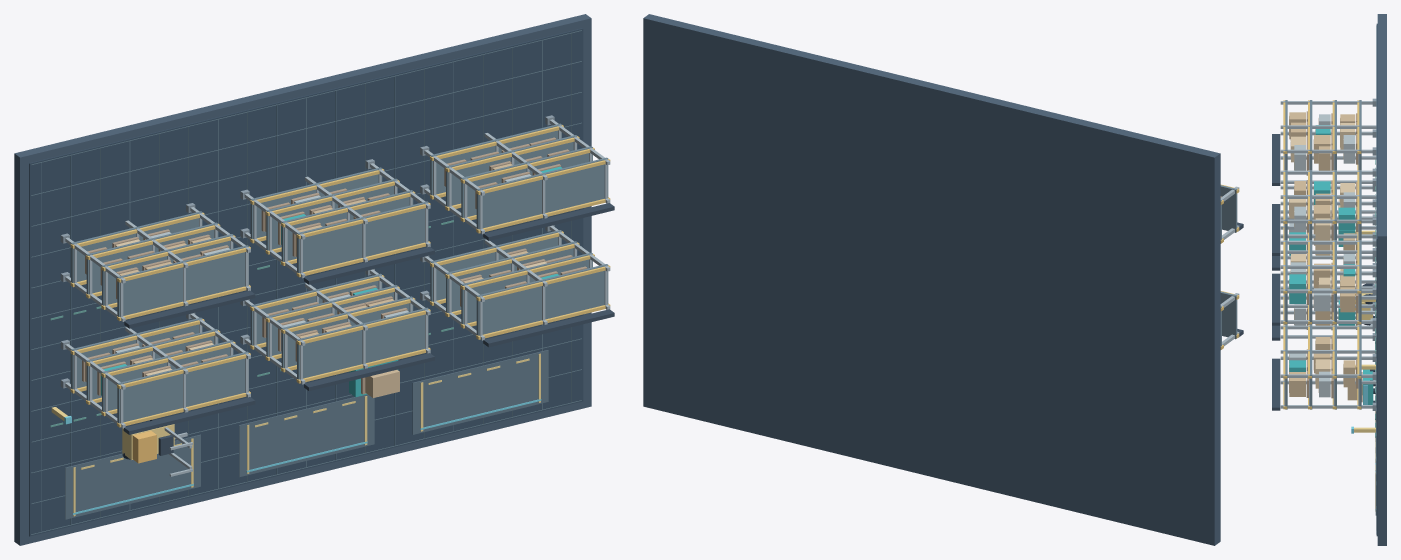
The model's file is masan_wms_warehouse_v2.glb.
The picture shows the model from 3 angles, left to right: view 1: azimuth 30°, elevation 25°; view 2: azimuth 150°, elevation 25°; view 3: azimuth 270°, elevation 25°; orthographic projection. The views are drawn at different scales.
Visible parts, largest first — view 1: floor_upper_2, warehouse_floor_1, dock_area_51, dock_area_43, dock_area_35, R03_shelf_262, R06_shelf_466, R04_shelf_328, R01_shelf_127, R02_shelf_196, R05_shelf_397, R06_shelf_448 (+29 smaller); view 2: warehouse_floor_1; view 3: warehouse_floor_1, floor_upper_2, R03_header_plate_268, R06_header_plate_472, R01_header_plate_133, R02_header_plate_202, R03_carton_298, R03_steel_leg_239, R03_steel_leg_243, R02_steel_leg_173, R01_steel_leg_108, R02_steel_leg_177 (+71 smaller).
Boxes of the visible parts, box(x1,y1,x2,y2) form: floor_upper_2: box(29, 28, 583, 536); warehouse_floor_1: box(14, 14, 591, 545); dock_area_51: box(412, 350, 548, 434); dock_area_43: box(239, 394, 374, 477); dock_area_35: box(65, 434, 200, 519); R03_shelf_262: box(476, 157, 608, 229); R06_shelf_466: box(476, 264, 608, 335); R04_shelf_328: box(117, 351, 248, 423); R01_shelf_127: box(117, 245, 248, 316); R02_shelf_196: box(297, 201, 428, 273); R05_shelf_397: box(297, 307, 428, 379); R06_shelf_448: box(430, 230, 561, 301); warehouse_floor_1: box(643, 14, 1220, 545); warehouse_floor_1: box(1377, 14, 1386, 545); floor_upper_2: box(1376, 23, 1377, 536); R03_header_plate_268: box(1272, 273, 1280, 325); R06_header_plate_472: box(1272, 358, 1280, 410); R01_header_plate_133: box(1272, 134, 1280, 185); R02_header_plate_202: box(1272, 204, 1280, 255); R03_carton_298: box(1289, 274, 1305, 303); R03_steel_leg_239: box(1280, 240, 1372, 244); R03_steel_leg_243: box(1280, 289, 1372, 293); R02_steel_leg_173: box(1280, 170, 1372, 174); R01_steel_leg_108: box(1280, 149, 1372, 153); R02_steel_leg_177: box(1280, 219, 1372, 223).
Bounding box in the file's own units: 19.4 × 12.6 × 4.23.
